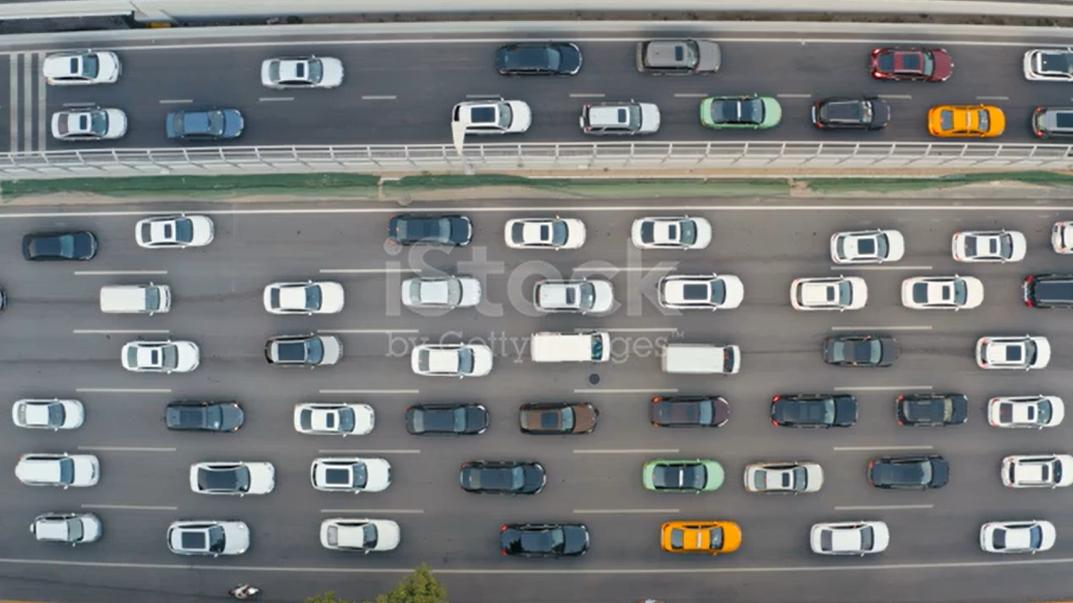car: (438, 90, 564, 147), (487, 29, 597, 94), (624, 27, 738, 88), (390, 266, 492, 329), (306, 509, 415, 564), (814, 329, 917, 384), (763, 388, 874, 439), (157, 96, 254, 154), (187, 451, 279, 512), (400, 396, 504, 449), (684, 84, 792, 135), (304, 449, 402, 502), (499, 514, 594, 568), (264, 40, 355, 96), (577, 89, 671, 143), (523, 321, 621, 372), (398, 336, 504, 383), (5, 389, 104, 439), (970, 513, 1069, 563), (633, 386, 736, 434), (2, 447, 109, 493), (806, 510, 898, 563), (788, 268, 872, 326), (159, 518, 258, 567), (130, 209, 225, 260), (858, 42, 958, 90), (644, 333, 748, 379), (523, 271, 629, 316), (511, 395, 604, 446), (970, 324, 1059, 377), (161, 392, 255, 442), (626, 208, 720, 258), (794, 88, 888, 138), (646, 273, 752, 317), (386, 206, 477, 257), (993, 437, 1073, 495), (944, 223, 1038, 272), (645, 517, 751, 560), (859, 453, 958, 499), (107, 336, 212, 379), (500, 211, 590, 261), (736, 458, 835, 503), (255, 328, 349, 375), (36, 106, 138, 149), (887, 388, 978, 436), (819, 224, 908, 273), (453, 455, 554, 498), (33, 50, 129, 95), (256, 277, 351, 320), (89, 279, 183, 321), (638, 455, 728, 498), (909, 273, 995, 318), (287, 397, 373, 441), (19, 510, 109, 552), (7, 228, 109, 264), (989, 390, 1068, 435), (923, 99, 1007, 141), (1019, 99, 1073, 146), (1022, 270, 1073, 318), (1015, 47, 1073, 83)
motorcycle: (220, 575, 279, 603)
